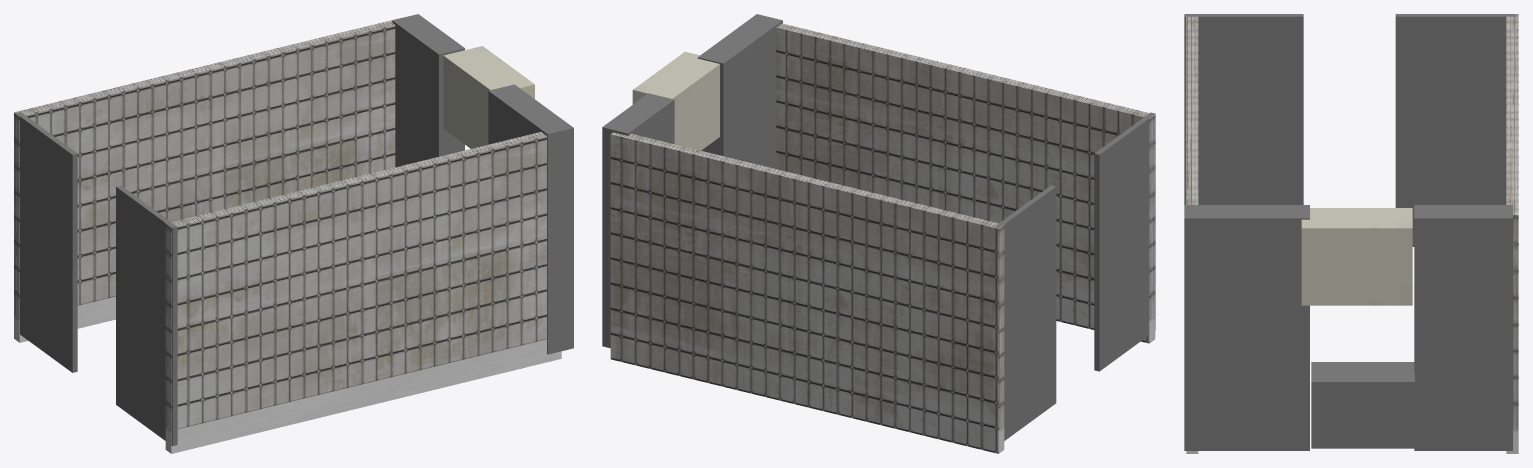
File: Bathroom_Walls.fbx
The picture shows the model from 3 angles, left to right: view 1: azimuth 30°, elevation 25°; view 2: azimuth 150°, elevation 25°; view 3: azimuth 270°, elevation 25°; orthographic projection. The views are drawn at different scales.
Parts seen in each view (by area): view 1: Bathroom_Wall__1_, Bathroom_Wall, Cube__3_, Cube__2_, Cube__1_, Cube, Cube__58_; view 2: Bathroom_Wall, Bathroom_Wall__1_, Cube__2_, Cube__3_, Cube__1_, Cube__58_, Cube; view 3: Cube__1_, Cube, Cube__3_, Cube__2_, Cube__58_, Cube__57_, Bathroom_Wall, Bathroom_Wall__1_.
Part boxes in pixels (x1,y1,x2,y2): Bathroom_Wall__1_: [165, 132, 561, 453]; Bathroom_Wall: [14, 17, 403, 342]; Cube__3_: [16, 112, 77, 372]; Cube__2_: [116, 185, 177, 445]; Cube__1_: [488, 84, 573, 354]; Cube: [392, 14, 464, 167]; Cube__58_: [443, 46, 534, 148]; Bathroom_Wall: [610, 132, 1004, 453]; Bathroom_Wall__1_: [776, 23, 1155, 343]; Cube__2_: [1094, 112, 1155, 371]; Cube__3_: [995, 185, 1056, 440]; Cube__1_: [697, 14, 782, 168]; Cube__58_: [632, 51, 719, 150]; Cube: [602, 93, 674, 348]; Cube__1_: [1184, 205, 1309, 450]; Cube: [1414, 205, 1512, 450]; Cube__3_: [1395, 14, 1515, 246]; Cube__2_: [1184, 14, 1303, 204]; Cube__58_: [1301, 208, 1412, 305]; Cube__57_: [1311, 362, 1414, 448]; Bathroom_Wall: [1506, 14, 1518, 453]; Bathroom_Wall__1_: [1186, 16, 1198, 453].
Bounding box in the file's own units: 1599 × 835 × 1048.
3 materials, 2 textured.
